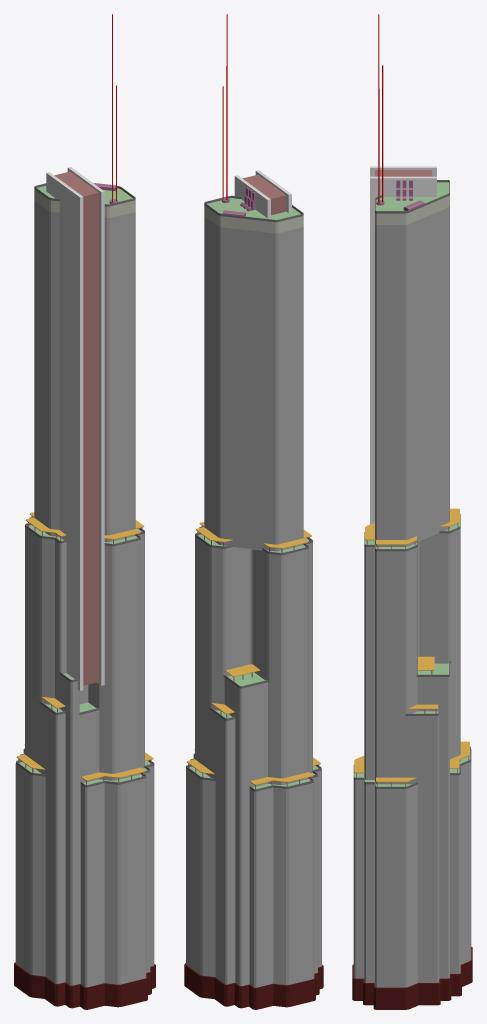
File: building_delnan_16P_tex.0038_med.game.fbx
3 renders of one model, left to right at view 1: azimuth 30°, elevation 25°; view 2: azimuth 210°, elevation 25°; view 3: azimuth 270°, elevation 25°, orthographic.
Parts seen in each view (by area): view 1: main_low, napoli, basement, roof_roof, railing, roof_floor, L5_top, roof_antena; view 2: main_low, basement, napoli, roof_floor, roof_roof, railing, L5_top, roof_antena; view 3: main_low, napoli, basement, roof_roof, roof_floor, railing, roof_antena, L5_top.
Part boxes in pixels (x1,y1,x2,y2): main_low: [15, 200, 154, 987]; napoli: [46, 167, 104, 690]; basement: [14, 962, 155, 1009]; roof_roof: [16, 512, 153, 780]; railing: [16, 183, 154, 787]; roof_floor: [19, 186, 150, 784]; L5_top: [34, 189, 135, 217]; roof_antena: [94, 14, 117, 203]; main_low: [186, 216, 321, 987]; basement: [184, 963, 323, 1009]; napoli: [234, 170, 291, 218]; roof_floor: [189, 198, 318, 788]; roof_roof: [187, 522, 320, 784]; railing: [186, 195, 321, 791]; L5_top: [204, 205, 303, 233]; roof_antena: [221, 14, 255, 216]; main_low: [353, 206, 471, 987]; napoli: [370, 166, 436, 524]; basement: [352, 947, 472, 1009]; roof_roof: [354, 508, 469, 782]; roof_floor: [354, 182, 469, 786]; railing: [353, 180, 470, 788]; roof_antena: [376, 14, 424, 210]; L5_top: [375, 195, 449, 224].
Bounding box in the file's own units: 0.1596 × 0.1596 × 1.42.
